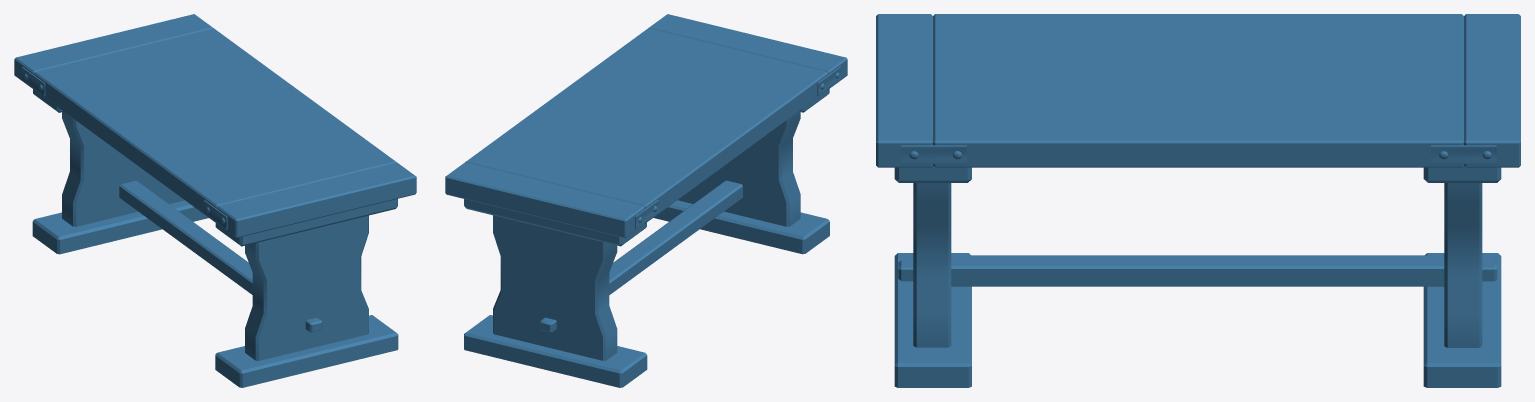
File: MainTable.fbx
3 views of the same model, side by side, from view 1: azimuth 30°, elevation 25°; view 2: azimuth 150°, elevation 25°; view 3: azimuth 270°, elevation 25° (orthographic). The views are drawn at different scales.
Parts seen in each view (by area): view 1: MainTable; view 2: MainTable; view 3: MainTable.
Part boxes in pixels (x1=…): MainTable: x1=14, y1=14, x2=416, y2=387; MainTable: x1=445, y1=14, x2=847, y2=387; MainTable: x1=876, y1=14, x2=1520, y2=387.
Bounding box in the file's own units: 81.98 × 74.12 × 170.
